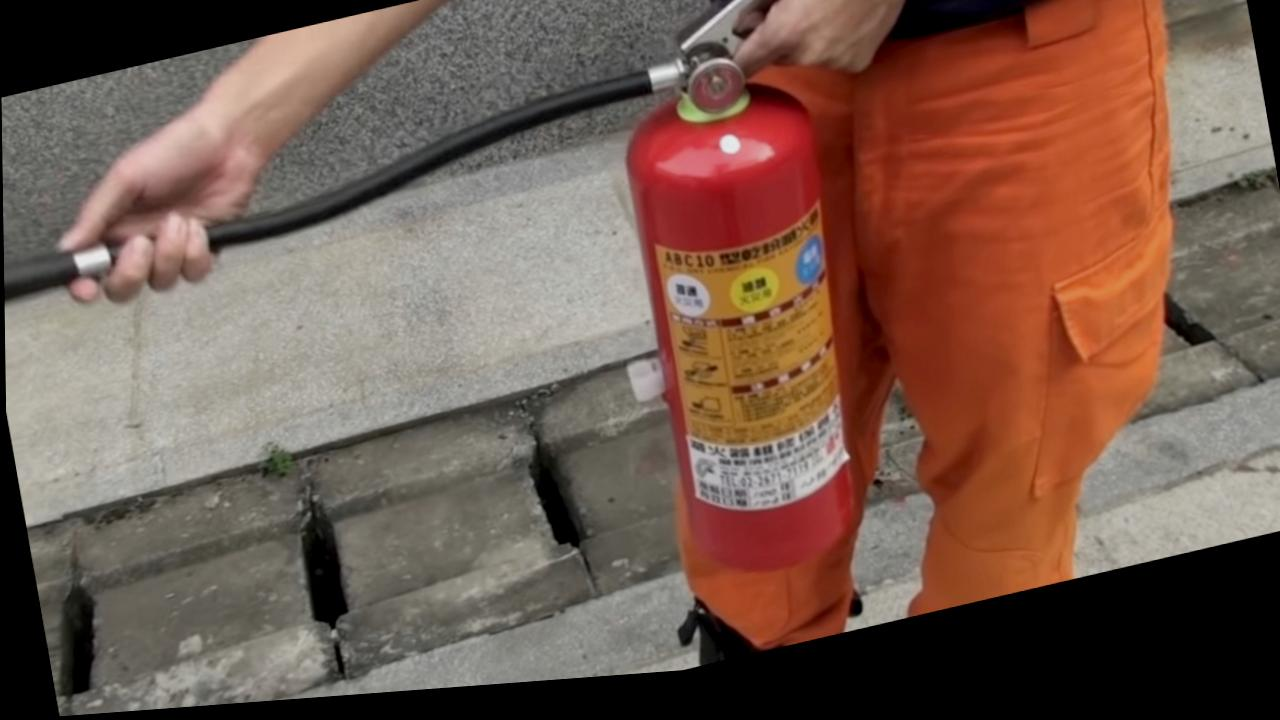FireExtinguisher: (557, 31, 914, 635)
not: (781, 0, 1280, 642)
